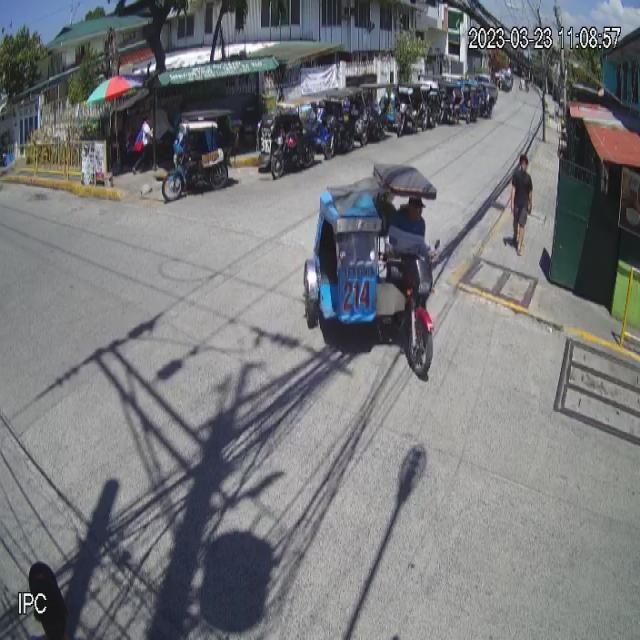Tricycle: (303, 160, 442, 375), (161, 107, 236, 201)
